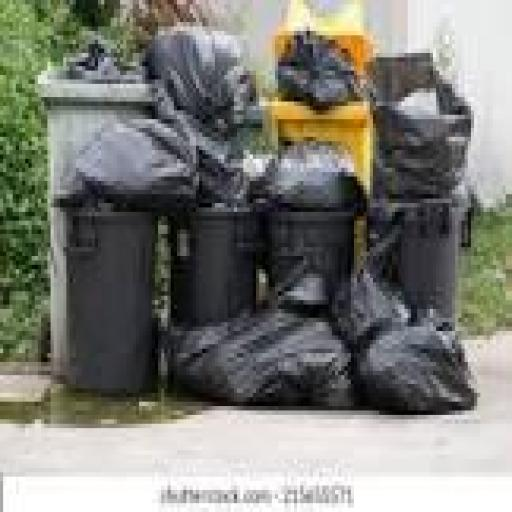poubelle_pleine: (42, 117, 201, 423), (257, 8, 385, 353), (366, 74, 484, 350), (30, 16, 164, 240), (166, 129, 267, 388)
